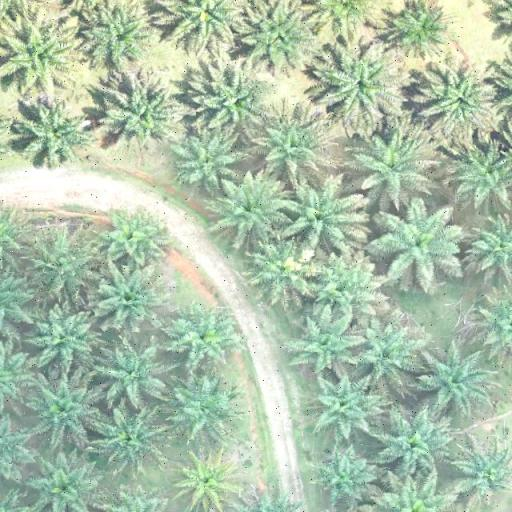Ganoderma: (182, 460, 235, 504)
